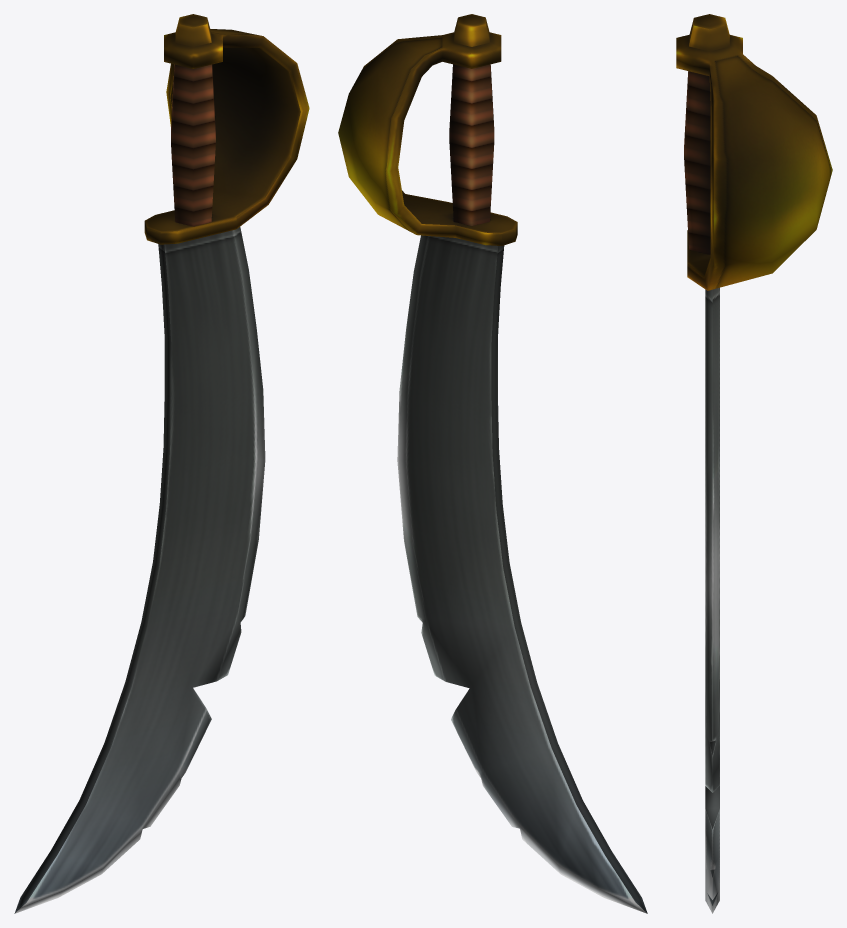
File: Cutlass.FBX
3 views of the same model, side by side, from view 1: azimuth 30°, elevation 25°; view 2: azimuth 150°, elevation 25°; view 3: azimuth 270°, elevation 25° (orthographic). The views are drawn at different scales.
Parts seen in each view (by area): view 1: Cutlass; view 2: Cutlass; view 3: Cutlass.
Part boxes in pixels (<box>): Cutlass: <box>14,14,309,913</box>; Cutlass: <box>338,14,647,913</box>; Cutlass: <box>676,14,832,913</box>.
Bounding box in the file's own units: 15.45 × 42.45 × 6.26.
